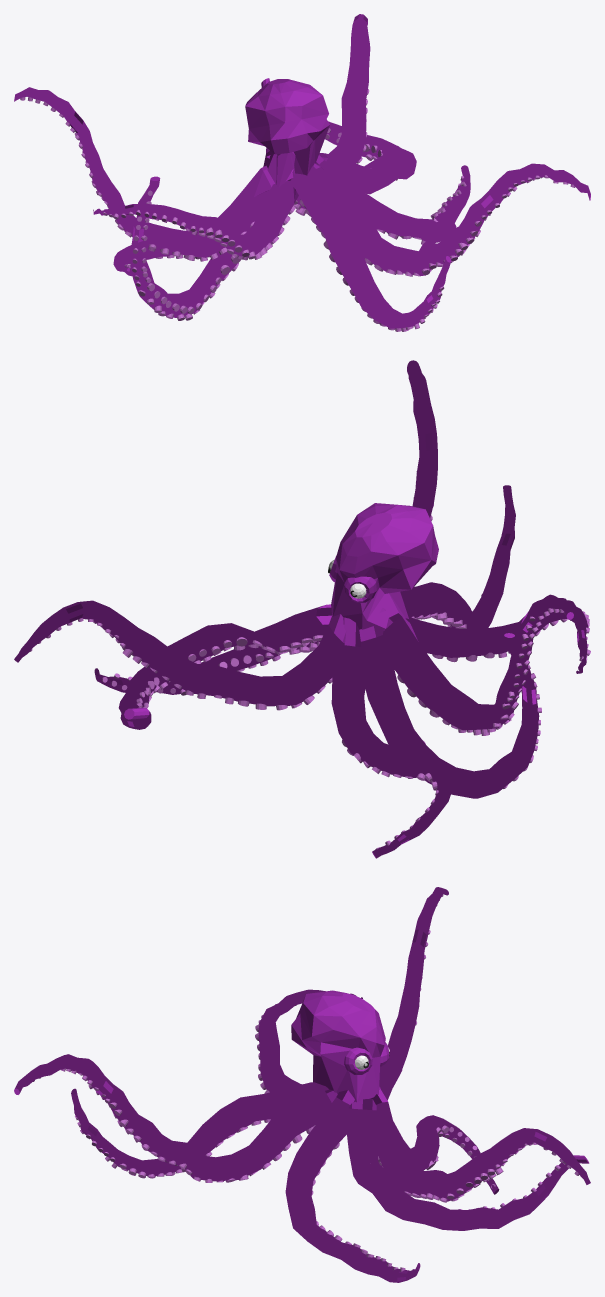
Rendered from Octopus.glb.
The picture shows the model from 3 angles, top to bottom: view 1: azimuth 30°, elevation 25°; view 2: azimuth 150°, elevation 25°; view 3: azimuth 270°, elevation 25°; orthographic projection. The views are drawn at different scales.
Visible parts, largest first — view 1: Node; view 2: Node; view 3: Node.
Part boxes in pixels (left/top/right/bottom): Node: left=14, top=14, right=590, bottom=331; Node: left=14, top=360, right=590, bottom=858; Node: left=14, top=887, right=590, bottom=1282.
Bounding box in the file's own units: 2.18 × 1.15 × 2.5.
